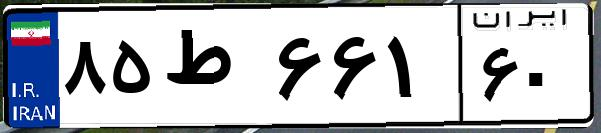0: (525, 38, 570, 115)
1: (385, 28, 445, 110)
5: (110, 28, 158, 98)
6: (270, 28, 330, 110), (330, 28, 385, 110), (475, 38, 525, 113)
8: (57, 26, 110, 100)
ط: (158, 20, 270, 120)
